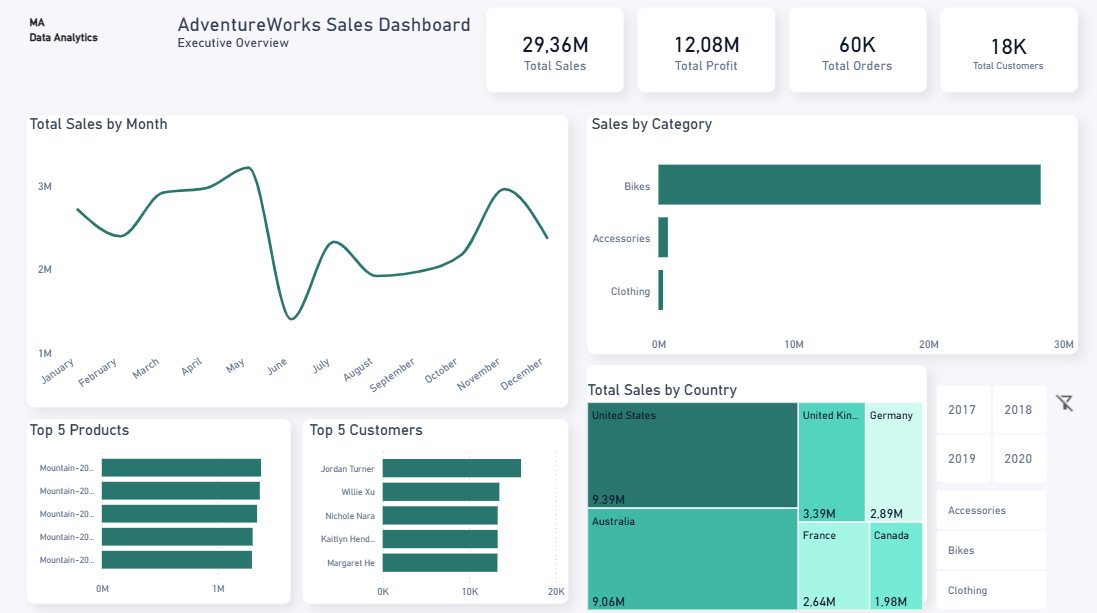

The page's visual inventory and layout, read from the dashboard file:
{"tool":"powerbi","page":{"name":"Page 1","canvas":[1280,720],"ordinal":0},"visuals":[{"type":"cardVisual","fields":{"Data":["Measure Table.Total Sales"]},"box":[569,23.3,155.6,96.3],"z":0},{"type":"cardVisual","fields":{"Data":["Measure Table.Total Profit"]},"box":[738.2,23.3,155.6,96.3],"z":1000},{"type":"cardVisual","fields":{"Data":["Measure Table.Total Orders"]},"box":[907.5,23.3,155.6,96.3],"z":2000},{"type":"cardVisual","fields":{"Data":["Measure Table.Total Customers"]},"box":[1076.7,23.3,155.6,96.3],"z":3000},{"type":"lineChart","fields":{"Category":["Date.Date.Variation.Date Hierarchy.Month"],"Y":["Measure Table.Total Sales"]},"box":[52.5,142,608.9,329.7],"z":4000},{"type":"barChart","title":"Sales by Category","fields":{"Y":["Measure Table.Total Sales"],"Category":["Product.Category"]},"box":[681.8,142,550.5,270.4],"z":5000},{"type":"clusteredBarChart","title":"Top 5 Products","fields":{"Category":["Product.Product"],"Y":["Measure Table.Total Sales"]},"box":[52.5,485.3,293.7,201.3],"z":6000},{"type":"clusteredBarChart","title":"Top 5 Customers","fields":{"Category":["Customer.Customer"],"Y":["Measure Table.Total Sales"]},"box":[365.7,485.3,295.7,205.2],"z":7000},{"type":"treemap","fields":{"Group":["Territory.Country"],"Values":["Measure Table.Total Sales"]},"box":[677.8,439.8,385.7,261.6],"z":8000},{"type":"advancedSlicerVisual","fields":{"Values":["Date.Date.Variation.Date Hierarchy.Year"]},"box":[1068.3,440.1,135.5,118.7],"z":9000},{"type":"advancedSlicerVisual","fields":{"Values":["Product.Category"]},"box":[1068.3,557.7,133.3,143.3],"z":10000},{"type":"textbox","box":[217.9,23.3,339.5,72.9],"z":11000},{"type":"textbox","box":[52.5,23.3,187.7,69.1],"z":12000},{"type":"actionButton","box":[1201.6,444.6,31.4,40.3],"z":12001}]}

Visuals, with their boxes in screenshot pixels (x1, y1, x2, y2), scaled from the page's 1280x720 canvas onto the 1097x613 screenshot:
cardVisual - Measure Table.Total Sales: crop(488, 20, 621, 102)
cardVisual - Measure Table.Total Profit: crop(633, 20, 766, 102)
cardVisual - Measure Table.Total Orders: crop(778, 20, 911, 102)
cardVisual - Measure Table.Total Customers: crop(923, 20, 1056, 102)
lineChart - Date.Date.Variation.Date Hierarchy.Month x Measure Table.Total Sales: crop(45, 121, 567, 402)
"Sales by Category" barChart: crop(584, 121, 1056, 351)
"Top 5 Products" clusteredBarChart: crop(45, 413, 297, 585)
"Top 5 Customers" clusteredBarChart: crop(313, 413, 567, 588)
treemap - Territory.Country x Measure Table.Total Sales: crop(581, 374, 911, 597)
advancedSlicerVisual - Date.Date.Variation.Date Hierarchy.Year: crop(916, 375, 1032, 476)
advancedSlicerVisual - Product.Category: crop(916, 475, 1030, 597)
textbox: crop(187, 20, 478, 82)
textbox: crop(45, 20, 206, 79)
actionButton: crop(1030, 379, 1057, 413)
